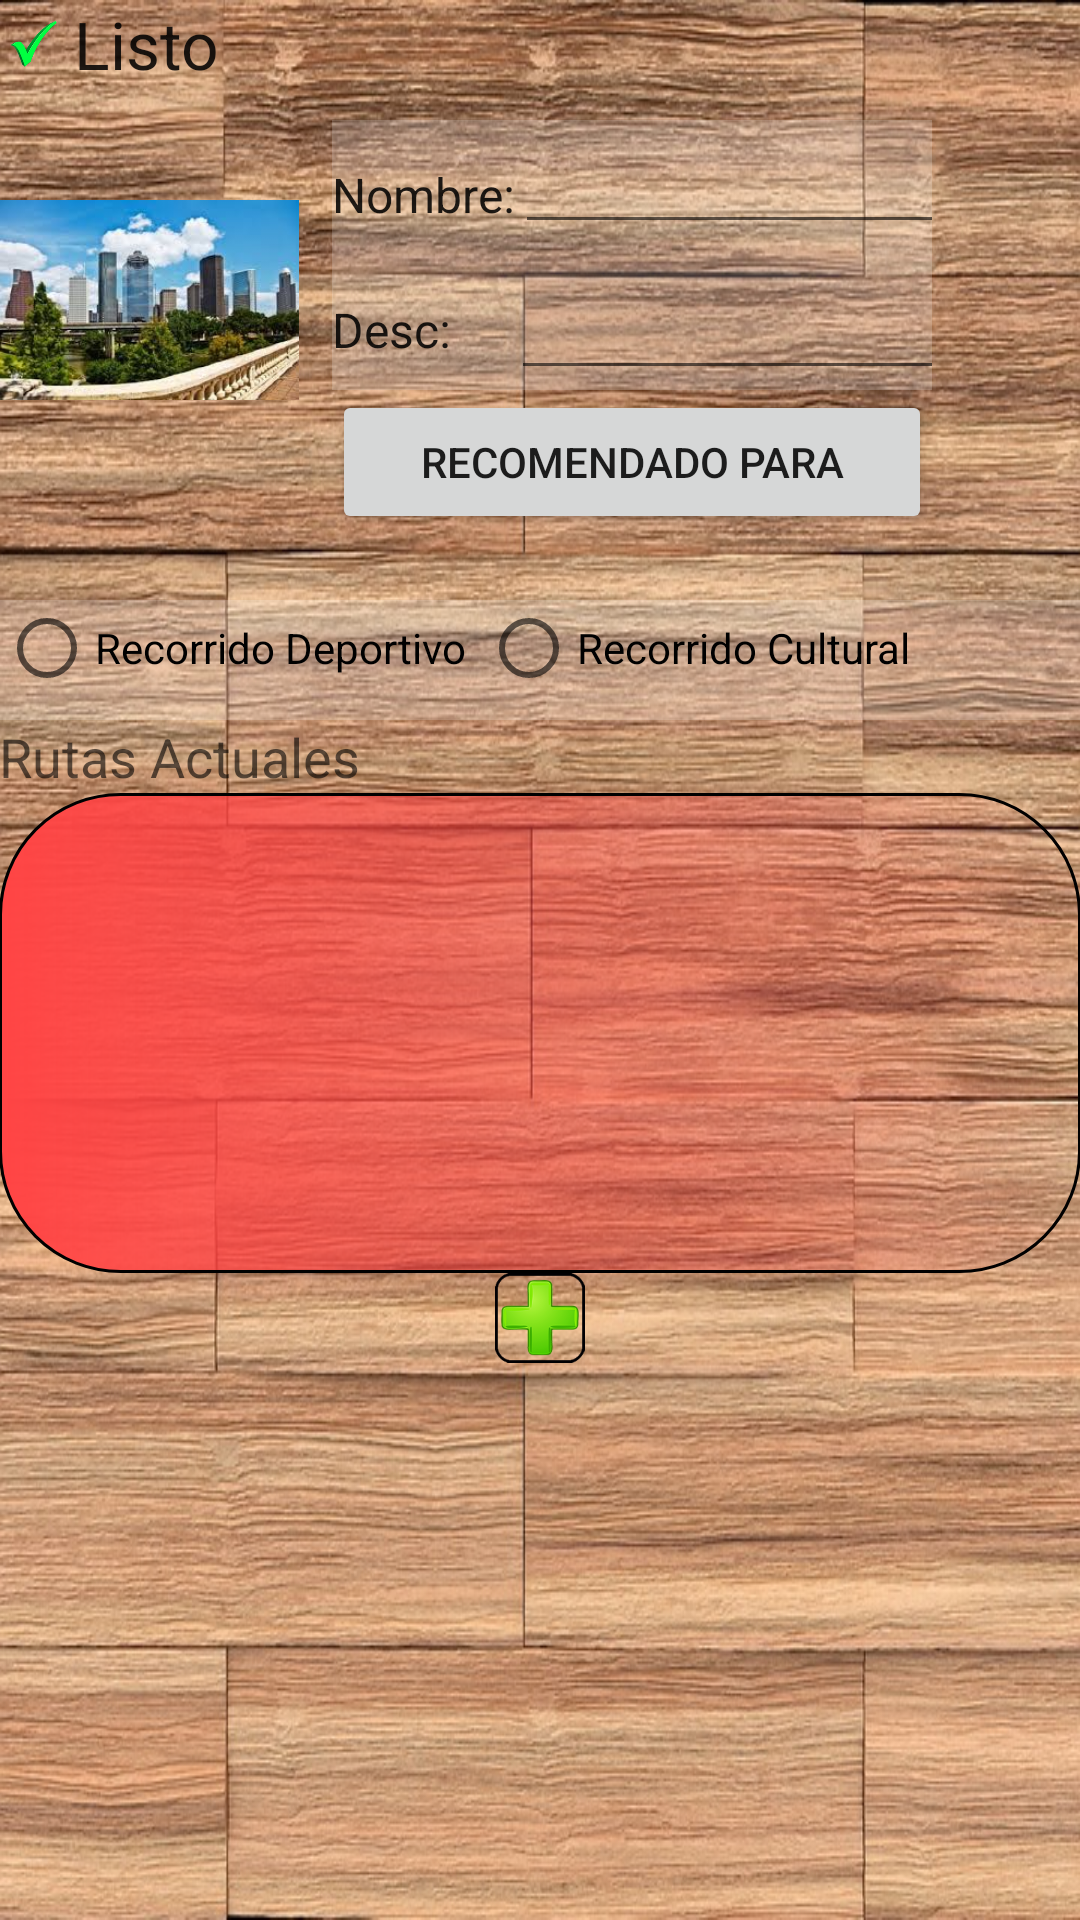

Icon click points for this 1080x1920 phone screenshot, format (x,y):
check: (37,37)
nuevo: (540,1318)
recorridodefecto: (149,300)
